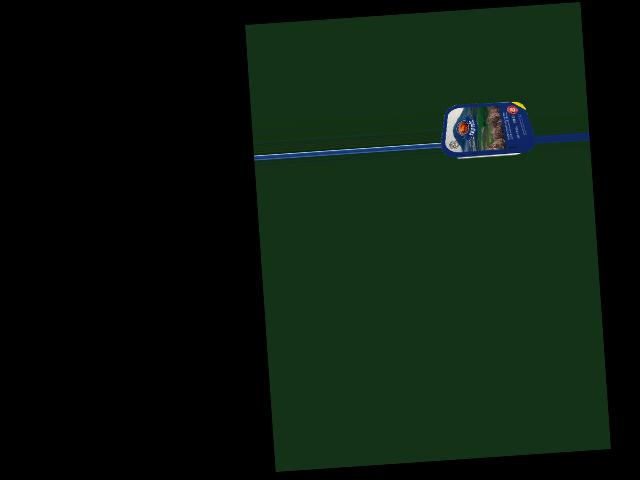cheese: (445, 97, 526, 166)
